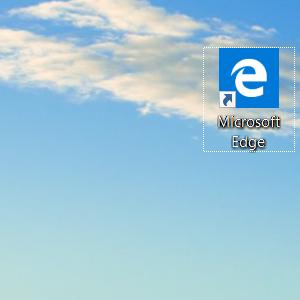edge: (219, 48, 279, 108)
